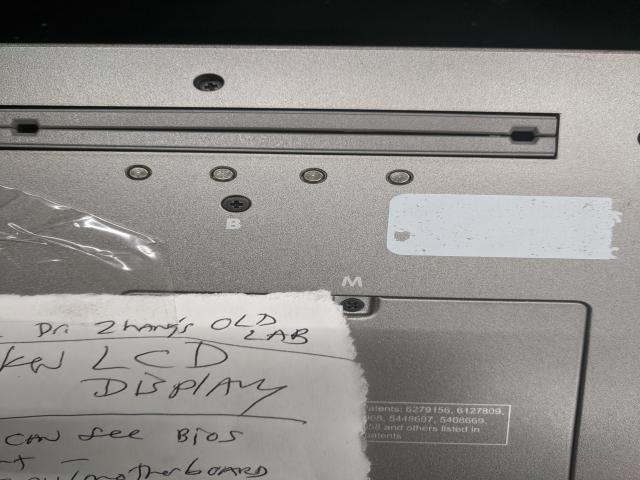CRS: (223, 194, 251, 214), (340, 296, 366, 316), (197, 78, 227, 94)
